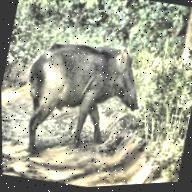boar: (12, 10, 184, 171)
